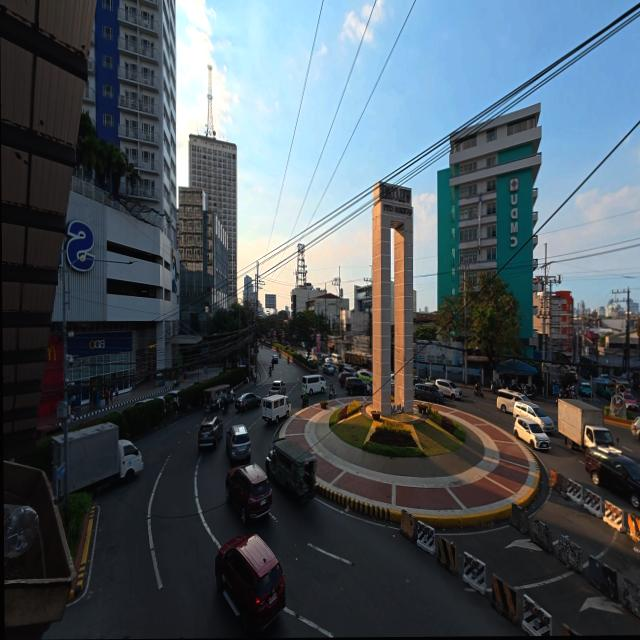car: (216, 531, 289, 637), (587, 451, 640, 514), (223, 464, 271, 526), (513, 416, 549, 451), (414, 377, 460, 399), (223, 425, 250, 462), (195, 416, 221, 449), (339, 375, 371, 397), (299, 374, 326, 396), (233, 391, 260, 413), (632, 416, 640, 444)
